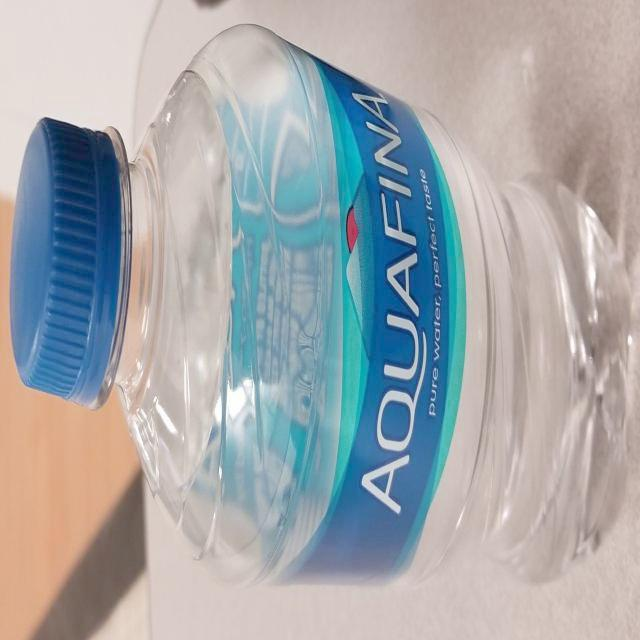bottle: (10, 23, 638, 589)
